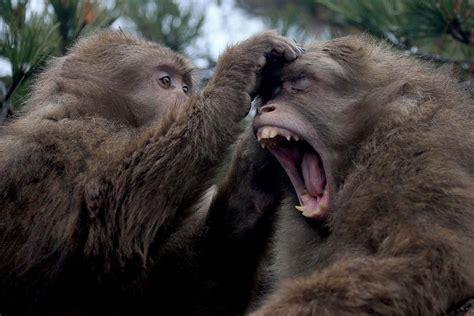monkey: (1, 33, 299, 316), (251, 35, 474, 316)
